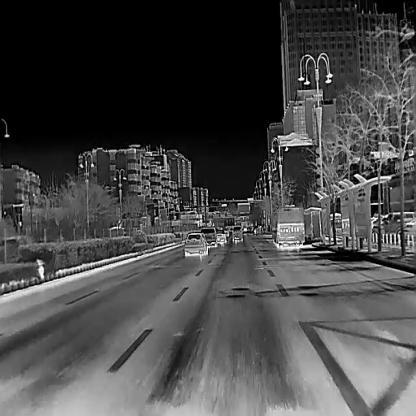car: (271, 204, 305, 247), (386, 211, 415, 234), (184, 231, 208, 256), (201, 227, 217, 246), (215, 228, 226, 244), (232, 225, 242, 242), (222, 227, 229, 237)
